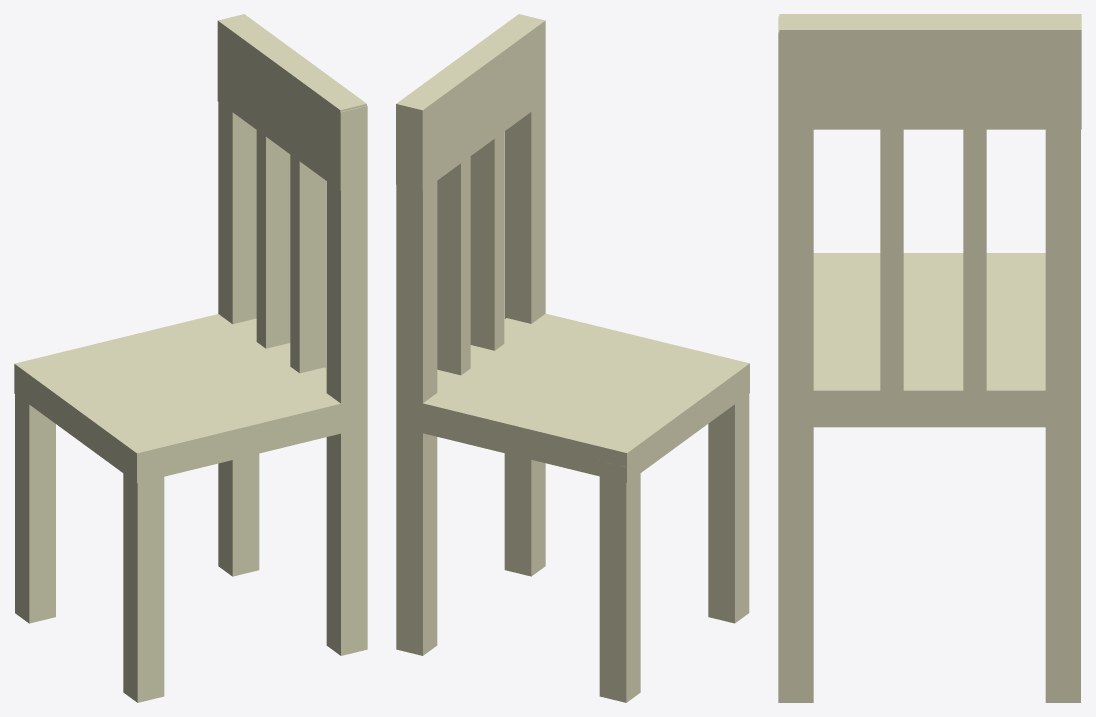
The model's file is Chair.fbx.
3 views of the same model, side by side, from view 1: azimuth 30°, elevation 25°; view 2: azimuth 150°, elevation 25°; view 3: azimuth 270°, elevation 25° (orthographic). The views are drawn at different scales.
Parts seen in each view (by area): view 1: Chair; view 2: Chair; view 3: Chair.
Boxes of the visible parts, left/top/right/bottom form: Chair: left=14, top=14, right=367, bottom=702; Chair: left=396, top=14, right=749, bottom=702; Chair: left=778, top=14, right=1081, bottom=702.
Size of the model in its own units: 670 by 1516 by 620.
